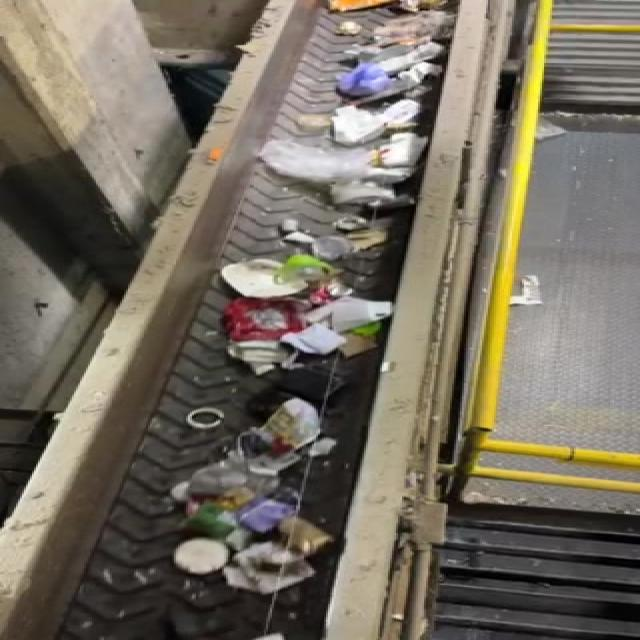pp: (168, 533, 233, 582)
